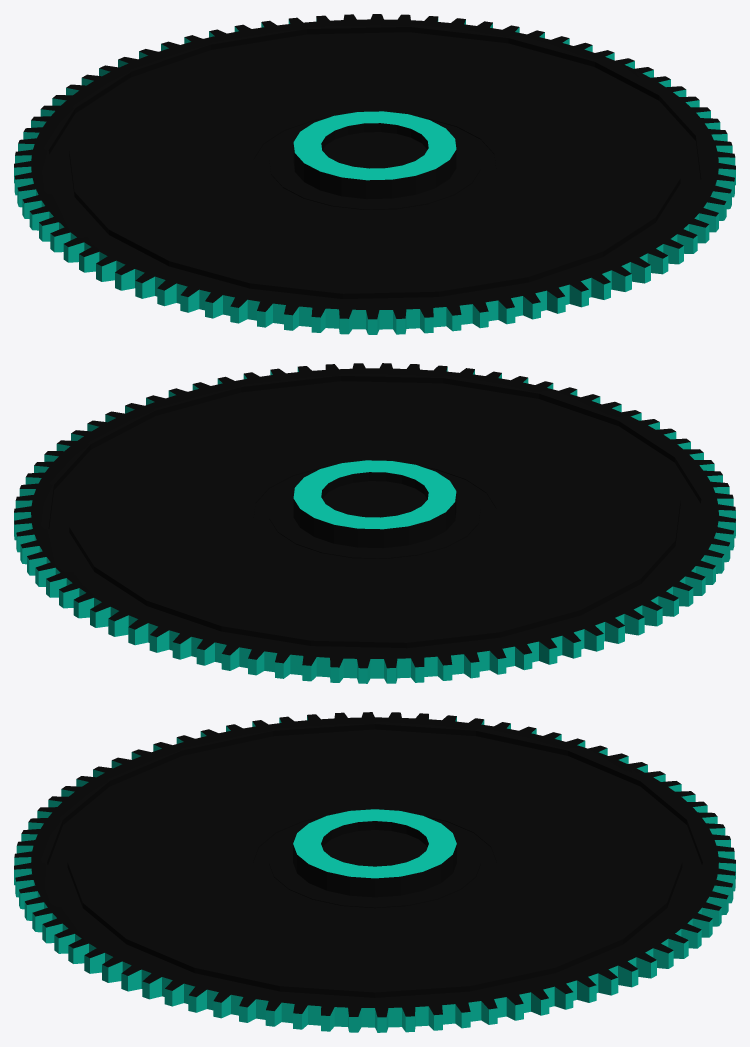
Rendered from D8GearV1.fbx.
3 views of the same model, one above another, from view 1: azimuth 30°, elevation 25°; view 2: azimuth 150°, elevation 25°; view 3: azimuth 270°, elevation 25° (orthographic).
Visible parts, largest first — view 1: D8GearV1; view 2: D8GearV1; view 3: D8GearV1.
Boxes of the visible parts, x1,y1,x2,y2 form: D8GearV1: (14,14,735,334); D8GearV1: (14,363,735,683); D8GearV1: (14,712,735,1032).
Bounding box in the file's own units: 16.8 × 0.9862 × 16.8.
